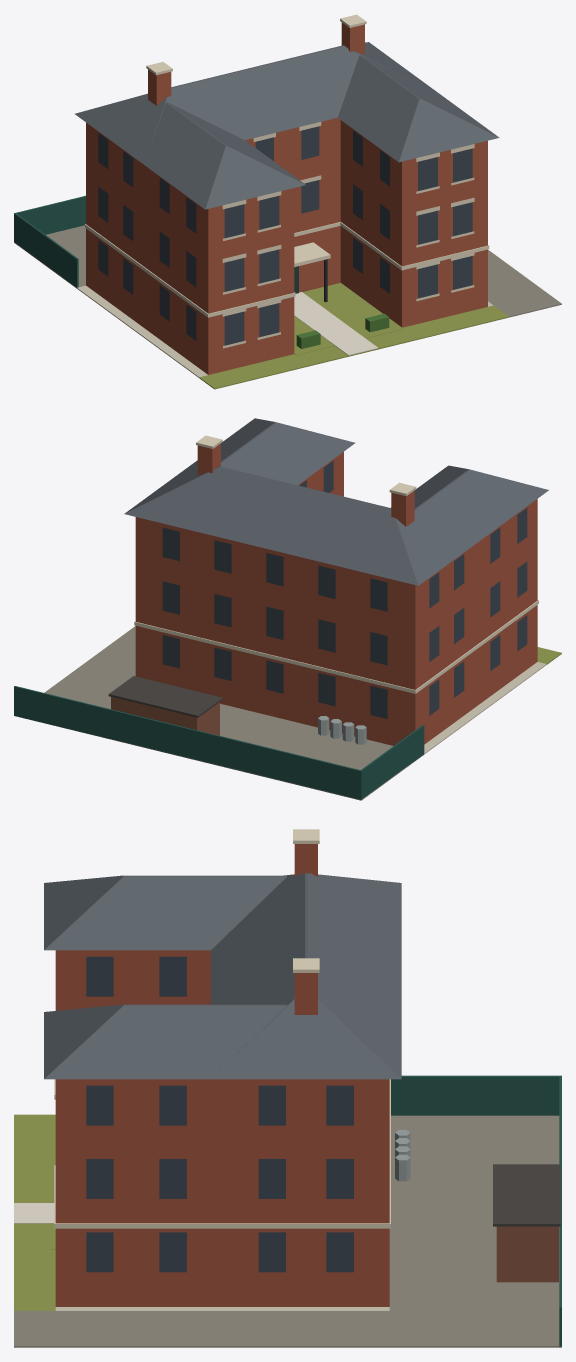
Rendered from apartments_n.glb.
3 renders of one model, top to bottom at view 1: azimuth 30°, elevation 25°; view 2: azimuth 150°, elevation 25°; view 3: azimuth 270°, elevation 25°, orthographic. The views are drawn at different scales.
Visible parts, largest first — view 1: apartments_n; view 2: apartments_n; view 3: apartments_n.
Boxes of the visible parts, <box> form: apartments_n: <box>14,14,561,389</box>; apartments_n: <box>14,418,561,800</box>; apartments_n: <box>14,829,561,1347</box>.
Size of the model in its own units: 30 by 19.07 by 30.
